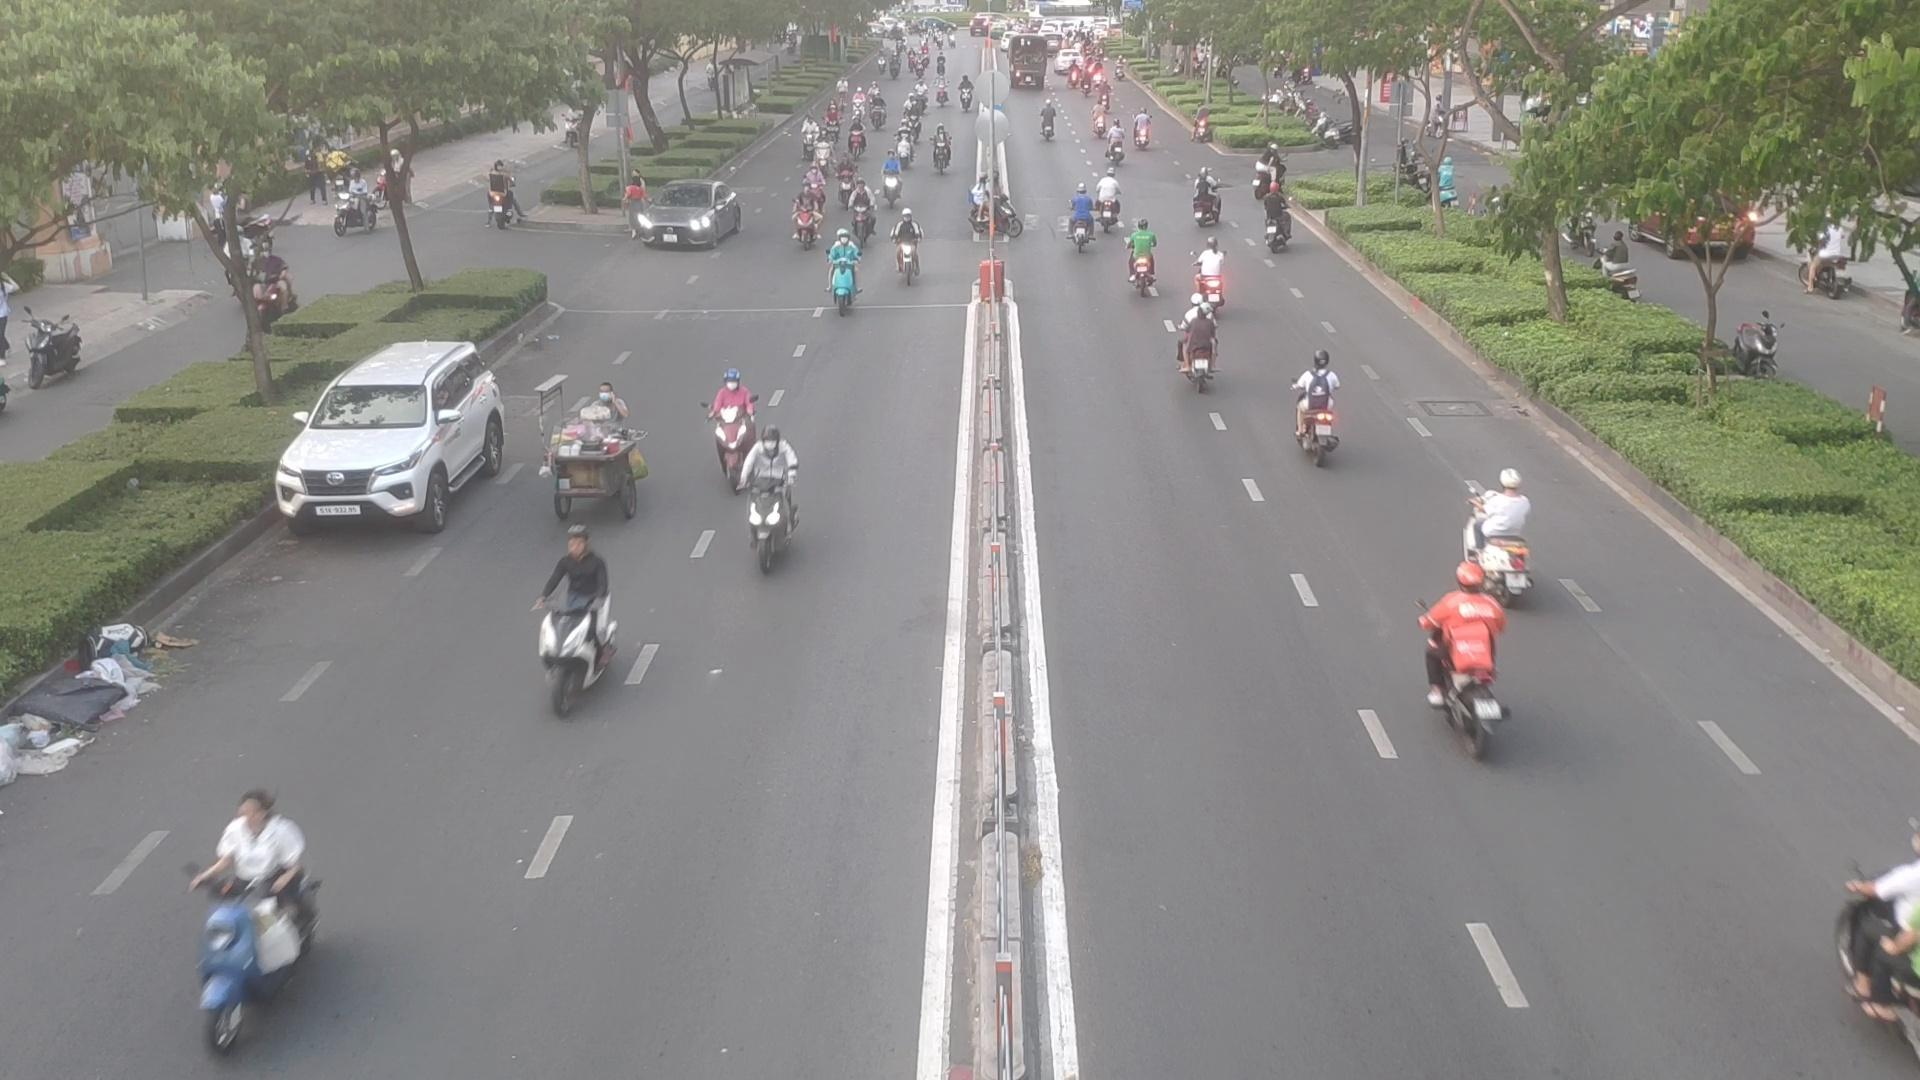car: (280, 342, 520, 533), (622, 185, 750, 255)
motorbike: (161, 789, 324, 1038), (1416, 575, 1520, 764), (1844, 833, 1920, 1065), (530, 538, 632, 709), (733, 427, 814, 571), (1462, 469, 1535, 601), (1294, 351, 1356, 458), (702, 371, 767, 458), (1168, 301, 1221, 392), (822, 240, 868, 315), (1124, 220, 1167, 294), (885, 215, 927, 286), (1083, 173, 1120, 233), (791, 193, 827, 251), (1185, 173, 1222, 225), (1098, 124, 1126, 165)
